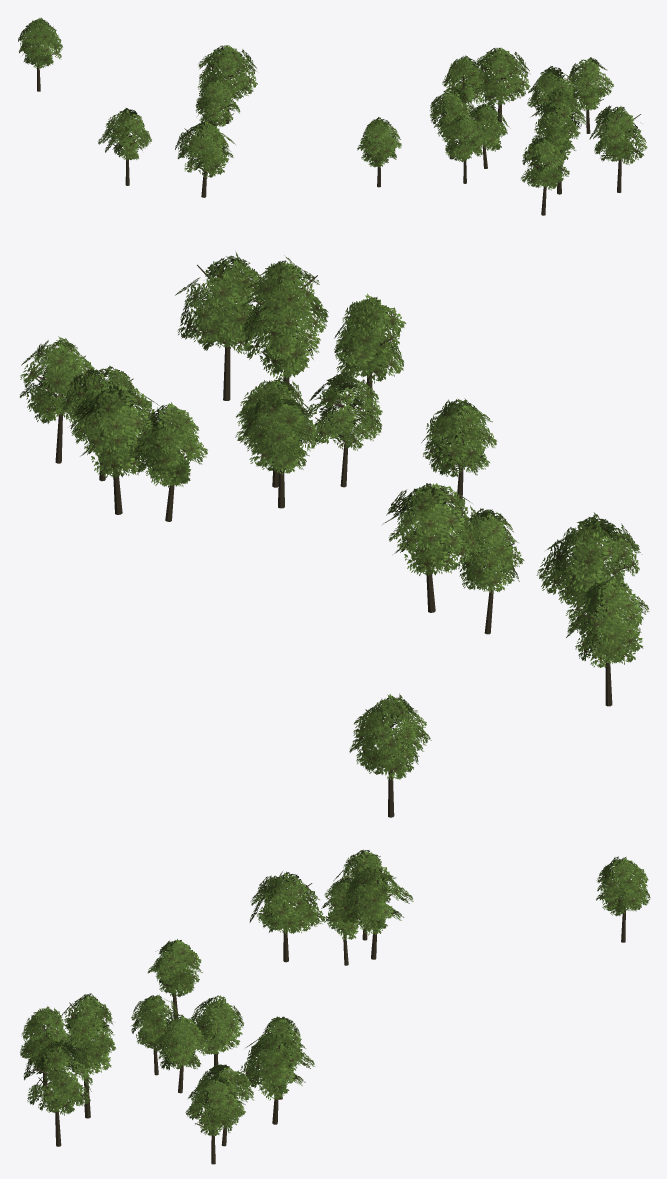
Rendered from TRB8-FOREST-CHUNK-8-6.glb.
3 renders of one model, top to bottom at view 1: azimuth 30°, elevation 25°; view 2: azimuth 150°, elevation 25°; view 3: azimuth 270°, elevation 25°, orthographic. The views are drawn at different scales.
Parts seen in each view (by area): view 1: TRB8-FOREST-CHUNK-8-6; view 2: TRB8-FOREST-CHUNK-8-6; view 3: TRB8-FOREST-CHUNK-8-6.
Part boxes in pixels (x1,y1,x2,y2): TRB8-FOREST-CHUNK-8-6: (18,17,647,215); TRB8-FOREST-CHUNK-8-6: (20,252,649,817); TRB8-FOREST-CHUNK-8-6: (20,849,650,1164).
Bounding box in the file's own units: 27.4 × 6.56 × 28.95.
2 materials, 1 textured.
